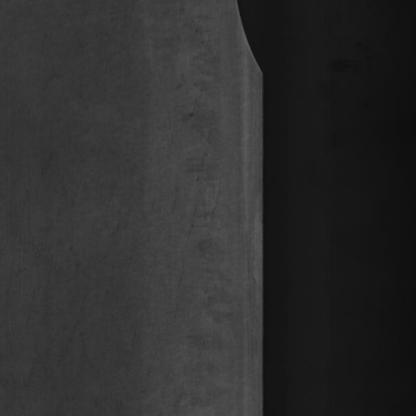crescent_gap: (215, 0, 273, 97)
